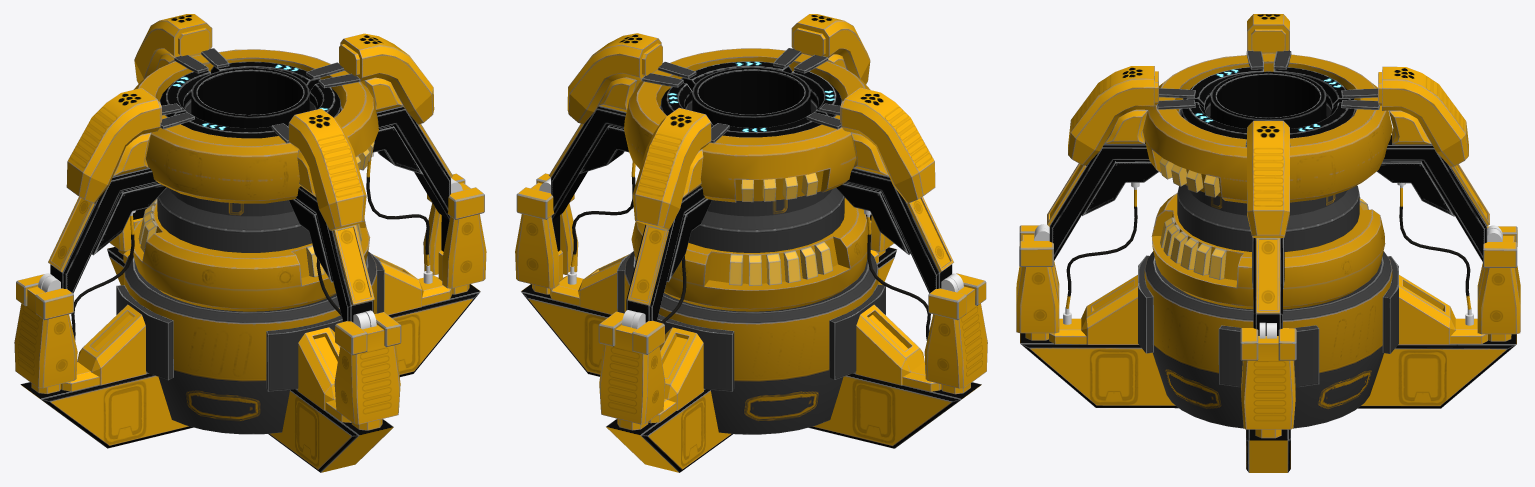
The model's file is engine_sci-fi__generator_sci-fi.glb.
3 renders of one model, left to right at view 1: azimuth 30°, elevation 25°; view 2: azimuth 150°, elevation 25°; view 3: azimuth 270°, elevation 25°, orthographic. The views are drawn at different scales.
Visible parts, largest first — view 1: engine_base_up_low, engine_cyl_low, legs_up_arm_low, legs_base_low, legs_arm_low, legs_connect_engine_low, legs_mid_low, engine_centre_low, engine_down_arm_low, legs_down_arm_low, legs_mid_arm_low, engine_centre_near_low (+8 smaller); view 2: engine_cyl_low, engine_base_up_low, legs_up_arm_low, legs_base_low, legs_arm_low, legs_connect_engine_low, legs_mid_low, engine_centre_low, engine_down_arm_low, legs_down_arm_low, legs_mid_arm_low, legs_mid_up_arm_low (+9 smaller); view 3: engine_cyl_low, engine_base_up_low, legs_up_arm_low, legs_base_low, legs_arm_low, legs_mid_low, legs_connect_engine_low, engine_centre_low, engine_down_arm_low, engine_centre_near_low, legs_mid_arm_low, legs_down_arm_low (+9 smaller).
Part boxes in pixels (x1,y1,x2,y2): engine_base_up_low: [130, 49, 378, 311]; engine_cyl_low: [124, 100, 376, 434]; legs_up_arm_low: [66, 14, 434, 230]; legs_base_low: [20, 247, 480, 472]; legs_arm_low: [14, 183, 486, 424]; legs_connect_engine_low: [77, 254, 423, 410]; legs_mid_low: [50, 106, 450, 321]; engine_centre_low: [191, 67, 309, 127]; engine_down_arm_low: [116, 252, 384, 391]; legs_down_arm_low: [16, 173, 484, 355]; legs_mid_arm_low: [92, 125, 423, 282]; engine_centre_near_low: [160, 61, 340, 138]; engine_cyl_low: [624, 100, 878, 434]; engine_base_up_low: [624, 48, 871, 311]; legs_up_arm_low: [567, 14, 935, 229]; legs_base_low: [521, 247, 981, 472]; legs_arm_low: [515, 182, 987, 424]; legs_connect_engine_low: [578, 254, 924, 410]; legs_mid_low: [551, 106, 952, 322]; engine_centre_low: [692, 67, 810, 127]; engine_down_arm_low: [617, 252, 885, 391]; legs_down_arm_low: [516, 173, 986, 354]; legs_mid_arm_low: [578, 125, 910, 282]; legs_mid_up_arm_low: [549, 123, 953, 305]; engine_cyl_low: [1144, 104, 1392, 428]; engine_base_up_low: [1142, 53, 1392, 309]; legs_up_arm_low: [1068, 14, 1468, 238]; legs_base_low: [1020, 333, 1516, 472]; legs_arm_low: [1016, 235, 1520, 429]; legs_mid_low: [1049, 135, 1487, 335]; legs_connect_engine_low: [1081, 275, 1455, 344]; engine_centre_low: [1210, 71, 1326, 128]; engine_down_arm_low: [1138, 255, 1398, 387]; engine_centre_near_low: [1181, 67, 1355, 139]; legs_mid_arm_low: [1082, 161, 1454, 288]; legs_down_arm_low: [1019, 225, 1517, 360].
Size of the model in its own units: 14.34 by 10.27 by 14.34.
Materials: 2 (2 with a texture image).
